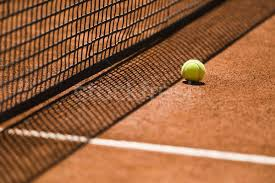tennis_ball: (180, 58, 206, 82)
